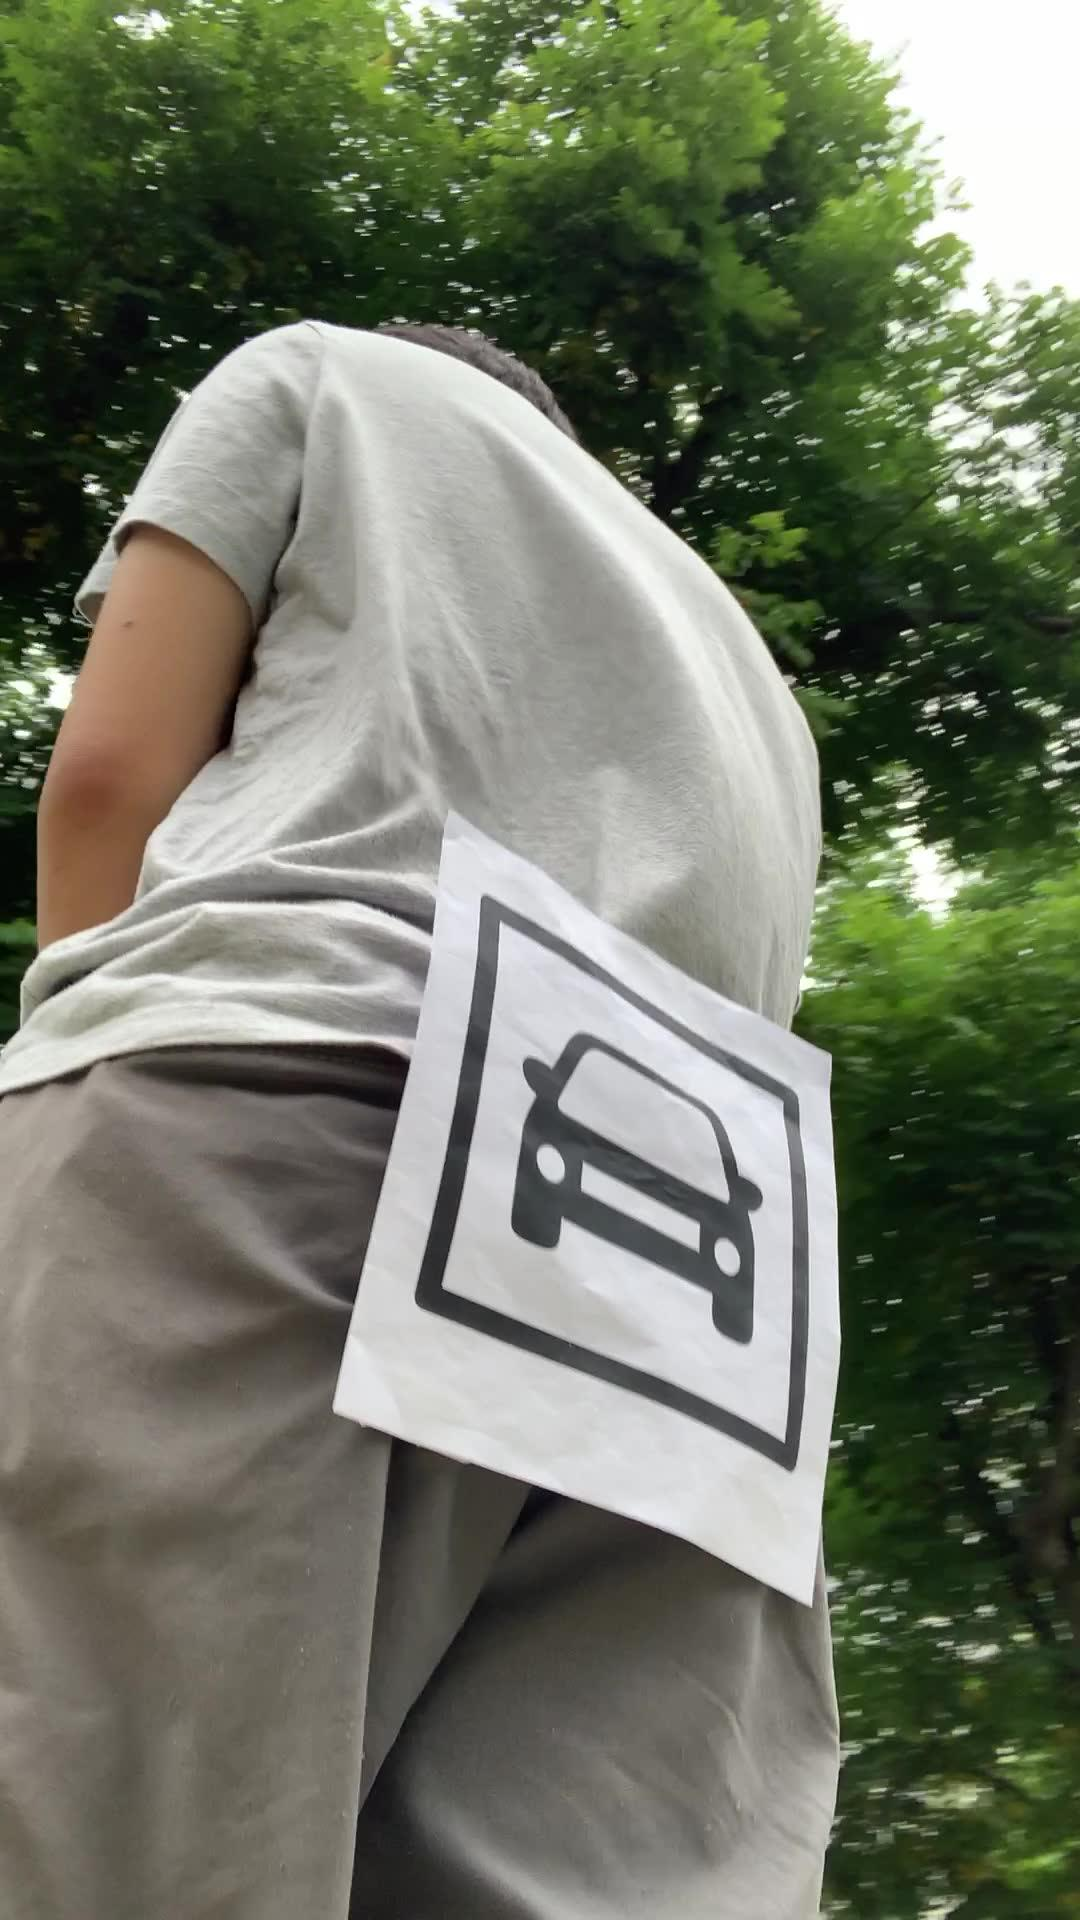car_img: (415, 891, 812, 1473)
